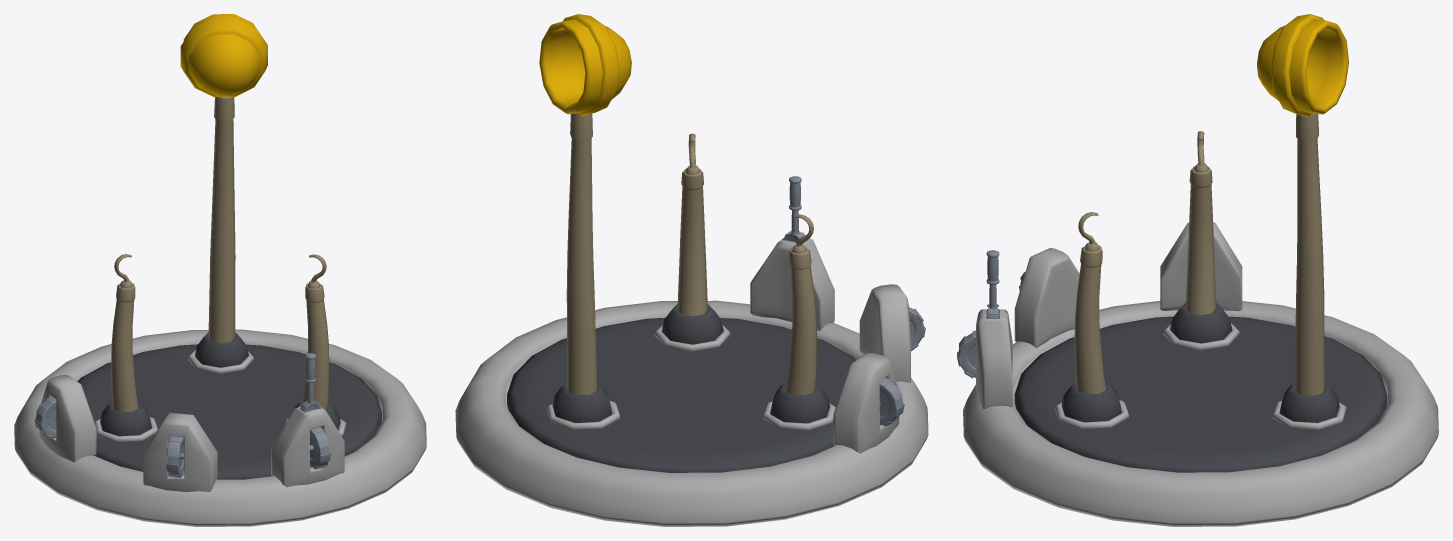
File: Catapult 02.fbx
The picture shows the model from 3 angles, left to right: view 1: azimuth 30°, elevation 25°; view 2: azimuth 150°, elevation 25°; view 3: azimuth 270°, elevation 25°; orthographic projection. The views are drawn at different scales.
Visible parts, largest first — view 1: Base, Disc, Terminal (×3), Beam (×3), Basket, Terminal_Cog (×3), Sphere_Mount, Sphere, ring2, ring1; view 2: Base, Disc, Beam (×3), Terminal (×3), Basket, Sphere (×2), Sphere_Mount, Terminal_Cog, ring1, ring2, ring3; view 3: Disc, Base, Beam (×3), Terminal (×3), Basket, Sphere (×2), Sphere_Mount, ring3, ring1, ring2, Terminal_Cog.
Boxes of the visible parts, x1,y1,x2,y2 form: Base: (14,329,426,526); Disc: (77,344,381,479); Terminal (×3): (39,375,344,491); Beam (×3): (111,96,329,412); Basket: (180,14,267,97); Terminal_Cog (×3): (34,396,330,477); Sphere_Mount: (195,332,248,367); Sphere: (100,401,151,436); ring2: (94,417,157,442); ring1: (188,349,253,373); Base: (455,300,928,526); Disc: (507,317,855,472); Beam (×3): (566,113,816,395); Terminal (×3): (750,237,910,453); Basket: (539,14,631,116); Sphere (×2): (661,304,829,423); Sphere_Mount: (552,383,611,422); Terminal_Cog: (879,377,904,426); ring1: (547,401,619,429); ring2: (763,401,835,430); ring3: (654,324,730,351); Disc: (1014,316,1387,472); Base: (963,301,1438,526); Beam (×3): (1074,113,1324,395); Terminal (×3): (976,222,1242,409); Basket: (1257,14,1348,116); Sphere (×2): (1061,303,1232,422); Sphere_Mount: (1279,383,1339,422); ring3: (1055,400,1128,429); ring1: (1272,400,1346,429); ring2: (1163,323,1239,350); Terminal_Cog: (957,330,975,378).
Bounding box in the file's own units: 587 × 585 × 587.
